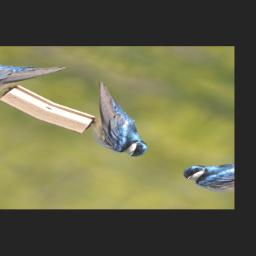Swallow: (50, 80, 187, 163)
